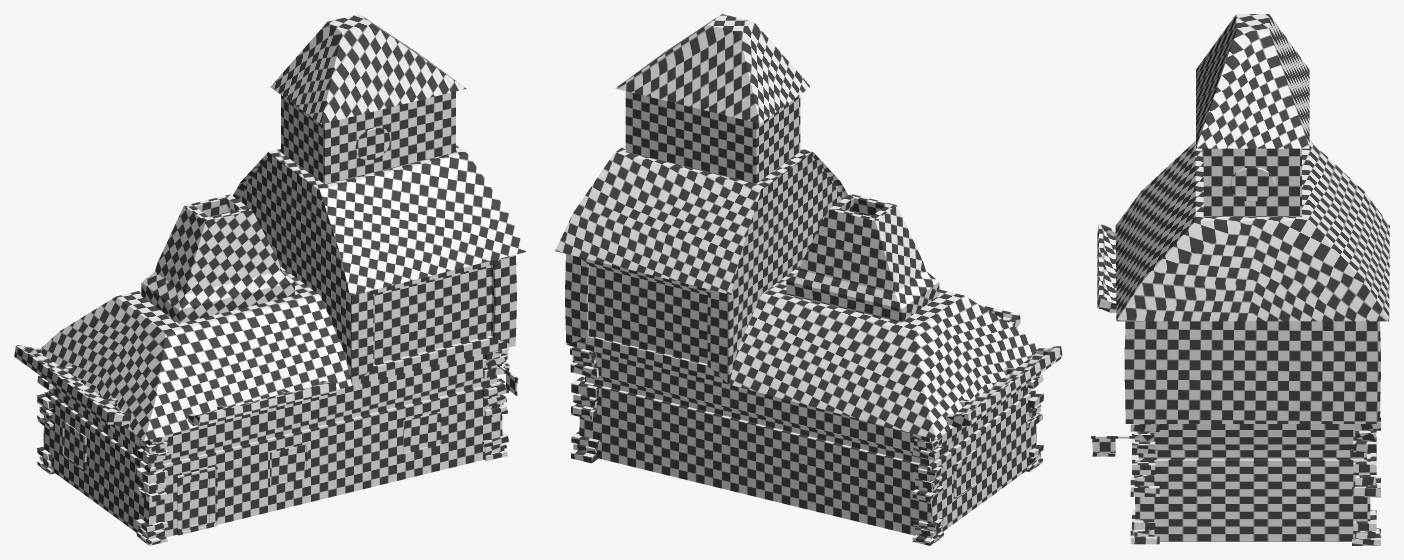
File: House_6.fbx
3 renders of one model, left to right at view 1: azimuth 30°, elevation 25°; view 2: azimuth 150°, elevation 25°; view 3: azimuth 270°, elevation 25°, orthographic. The views are drawn at different scales.
Parts seen in each view (by area): view 1: House_6; view 2: House_6; view 3: House_6.
Part boxes in pixels (x1,y1,x2,y2): House_6: (14,14,526,545); House_6: (555,14,1062,545); House_6: (1091,14,1389,545).
Bounding box in the file's own units: 1450 × 1446 × 835.
1 material, 1 textured.
